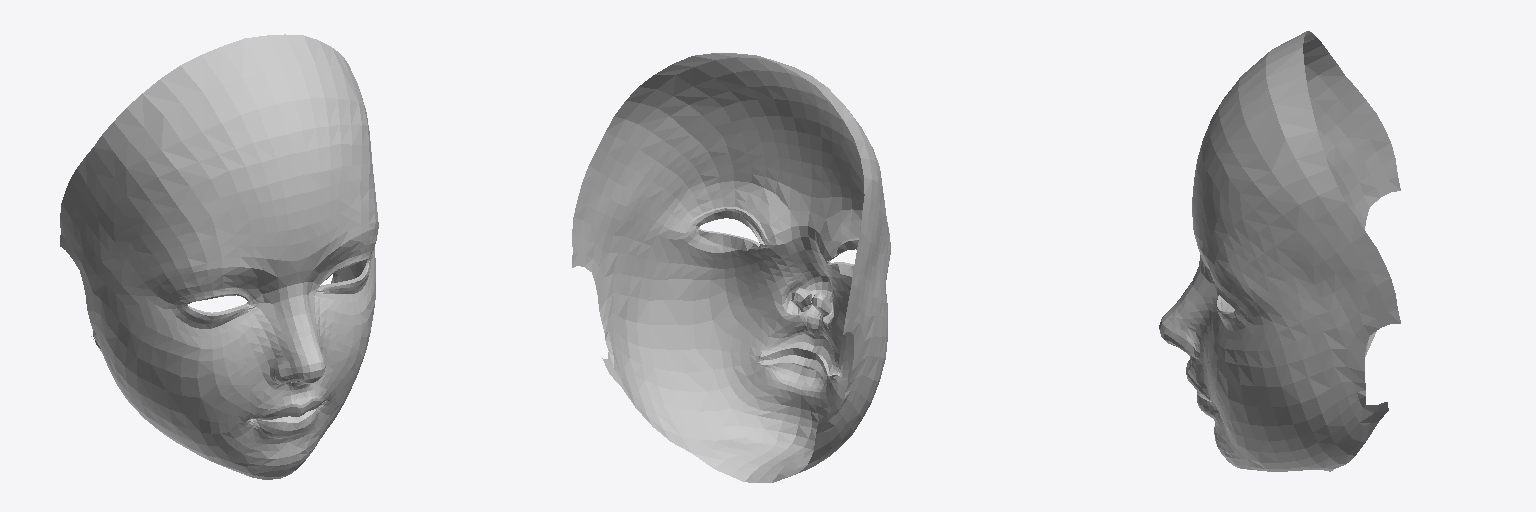
The model's file is G3Shape_Result.11.face.1.obj.
3 renders of one model, left to right at view 1: azimuth 30°, elevation 25°; view 2: azimuth 150°, elevation 25°; view 3: azimuth 270°, elevation 25°, orthographic.
Visible parts, largest first — view 1: G3G2S.F_1837; view 2: G3G2S.F_1837; view 3: G3G2S.F_1837.
Boxes of the visible parts, box(x1,y1,x2,y2) form: G3G2S.F_1837: box(60, 34, 378, 479); G3G2S.F_1837: box(572, 53, 890, 482); G3G2S.F_1837: box(1159, 31, 1400, 471).
Bounding box in the file's own units: 14.46 × 20.8 × 10.93.